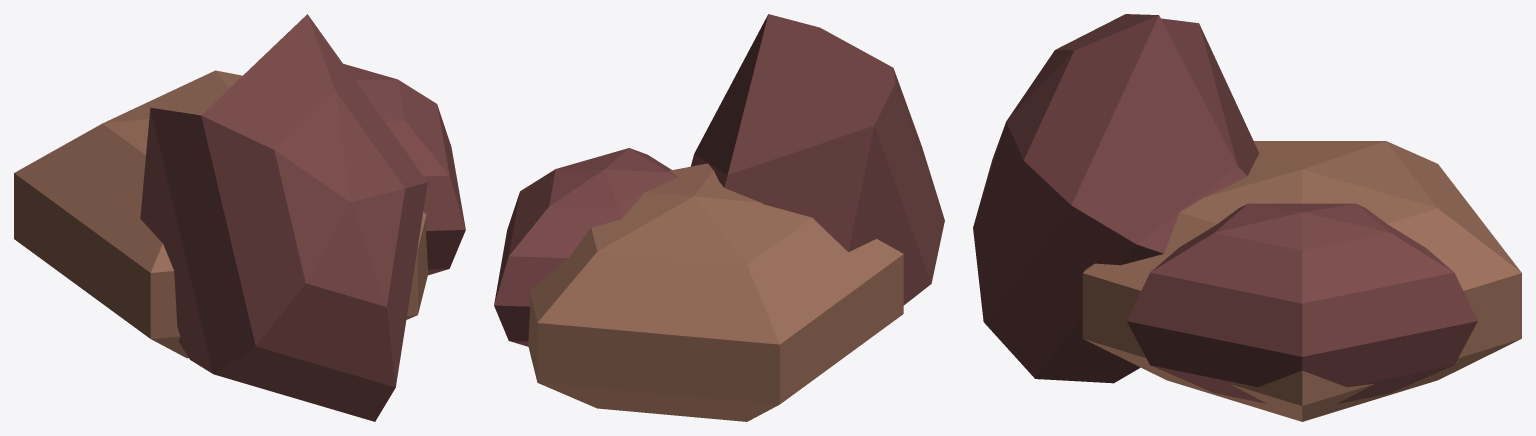
File: west_rock01.fbx
3 views of the same model, side by side, from view 1: azimuth 30°, elevation 25°; view 2: azimuth 150°, elevation 25°; view 3: azimuth 270°, elevation 25° (orthographic). The views are drawn at different scales.
Parts seen in each view (by area): view 1: pSphere12; view 2: pSphere12; view 3: pSphere12.
Boxes of the visible parts, x1,y1,x2,y2 form: pSphere12: [14, 14, 465, 421]; pSphere12: [494, 14, 944, 421]; pSphere12: [973, 14, 1521, 421].
Bounding box in the file's own units: 4.14 × 3.97 × 5.37.
